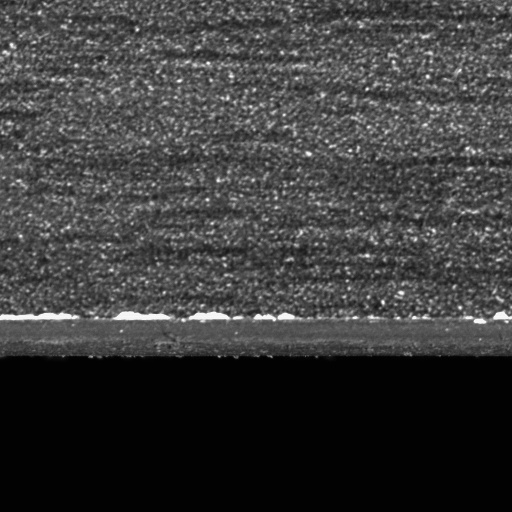huashang: (2, 310, 82, 322), (114, 309, 170, 323), (253, 311, 298, 321), (188, 312, 229, 321)
